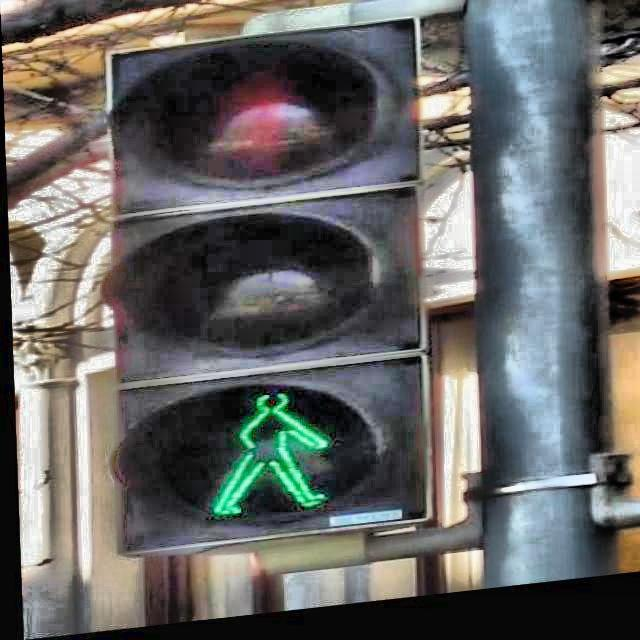semaforo pedestre: (21, 0, 538, 597)
